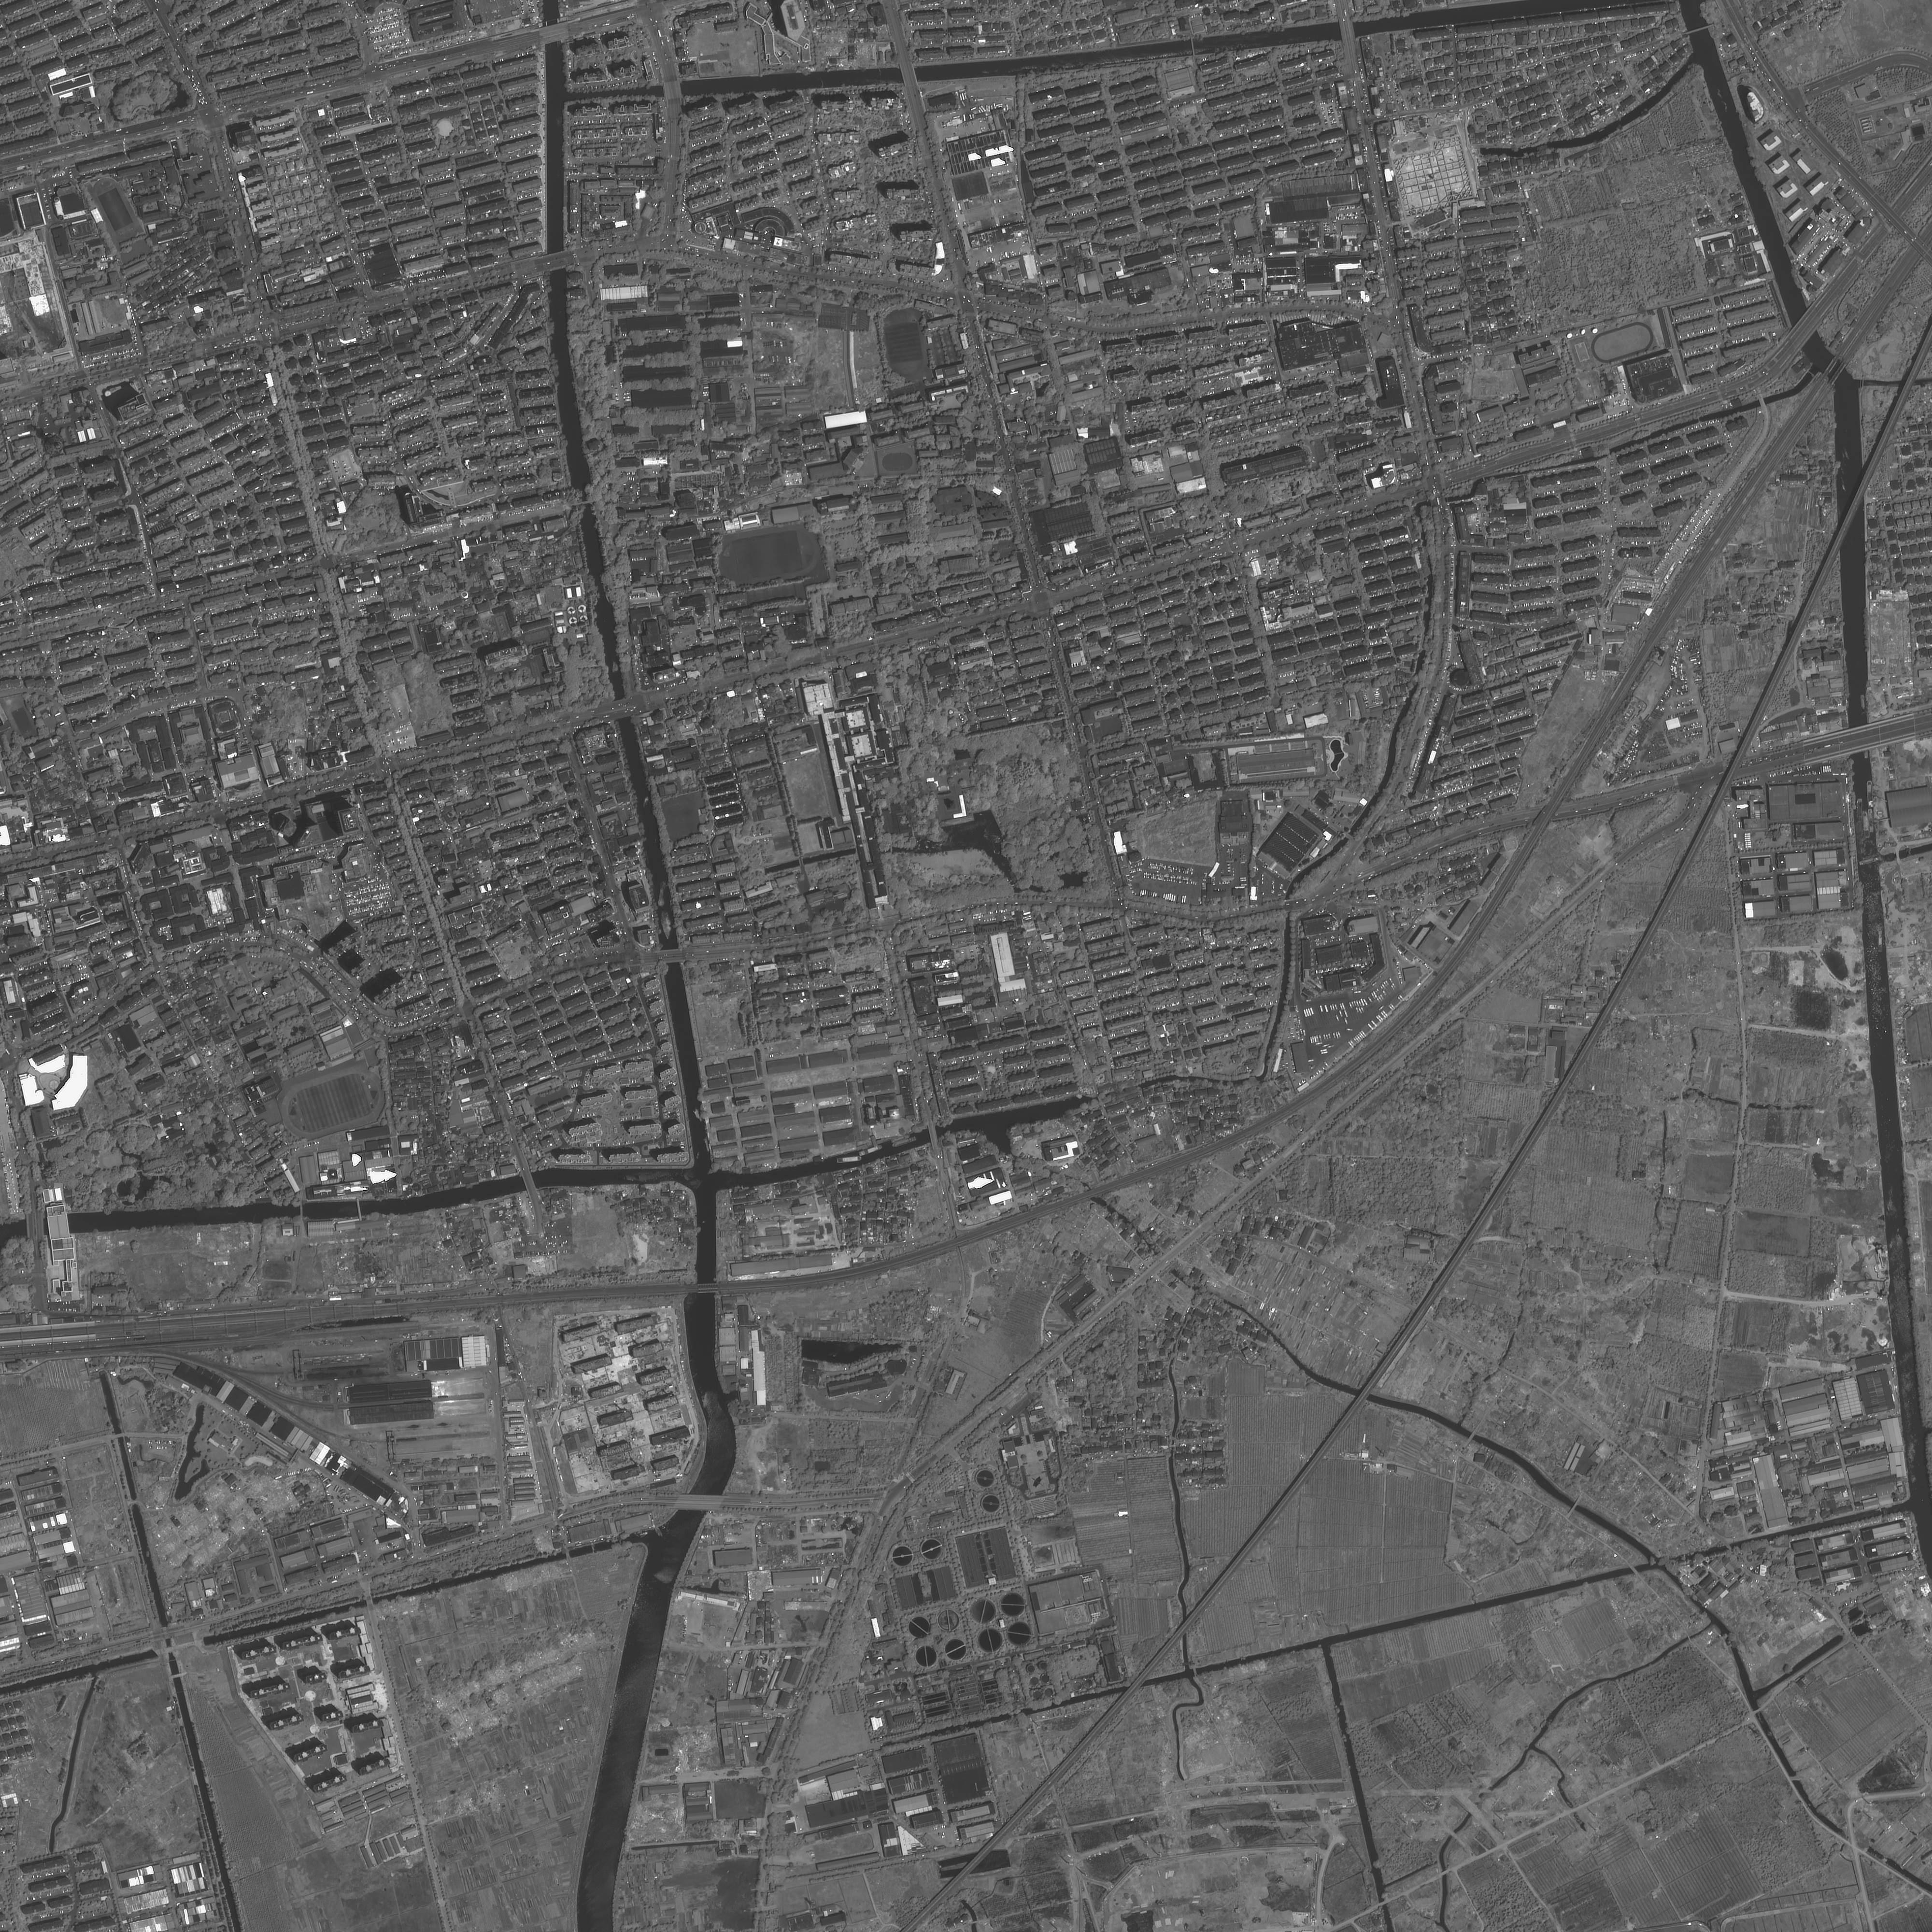bridge: (1838, 474, 1874, 538), (1789, 303, 1829, 347), (1845, 722, 1877, 755), (681, 1493, 724, 1513), (540, 21, 571, 46), (612, 699, 635, 722), (547, 249, 570, 272), (1828, 361, 1849, 386), (899, 64, 918, 87), (27, 1215, 44, 1240), (658, 948, 685, 964), (1338, 19, 1357, 41), (663, 81, 683, 101), (520, 1171, 538, 1191), (1127, 1675, 1145, 1693), (1824, 356, 1840, 375), (695, 1283, 718, 1293), (1688, 25, 1711, 35), (1428, 495, 1447, 508), (1180, 1619, 1194, 1635), (927, 1125, 939, 1143), (1359, 1389, 1371, 1401), (1569, 1500, 1580, 1514), (161, 1626, 172, 1640), (1467, 1431, 1477, 1444), (1085, 1189, 1097, 1200), (1629, 1566, 1640, 1576), (1284, 899, 1293, 911), (366, 1596, 375, 1606), (1759, 396, 1767, 407), (1345, 832, 1353, 840), (1378, 1900, 1389, 1907), (1789, 1775, 1799, 1782), (172, 1674, 182, 1679), (115, 1433, 126, 1438), (564, 1552, 571, 1559), (1753, 1709, 1762, 1714)
ground track field: (274, 1062, 393, 1146), (715, 522, 826, 589), (87, 172, 147, 249), (879, 306, 929, 382), (1587, 318, 1658, 366)
ship: (856, 1143, 883, 1159), (892, 1136, 916, 1148), (837, 1155, 863, 1164), (1867, 782, 1875, 809), (890, 1132, 911, 1143), (1867, 810, 1875, 833), (1856, 800, 1865, 823), (1863, 812, 1870, 840)
soccer ball field: (952, 172, 989, 202)
storage tank: (1083, 1677, 1095, 1690), (1072, 1681, 1085, 1693), (1031, 1690, 1042, 1702), (1028, 1677, 1040, 1688), (1044, 1688, 1054, 1698), (1040, 1674, 1051, 1684), (1026, 1663, 1037, 1674), (1039, 1661, 1049, 1672)
